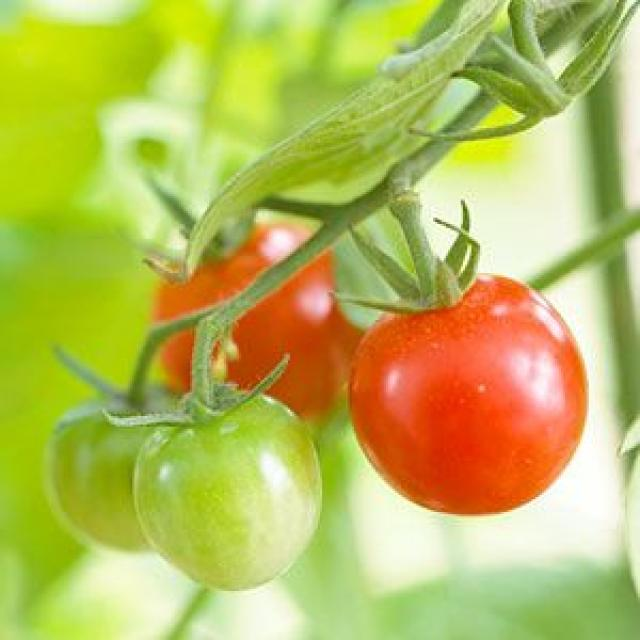level 3: (134, 393, 326, 588), (52, 393, 214, 558)
level 6: (352, 270, 586, 517), (153, 222, 360, 428)
